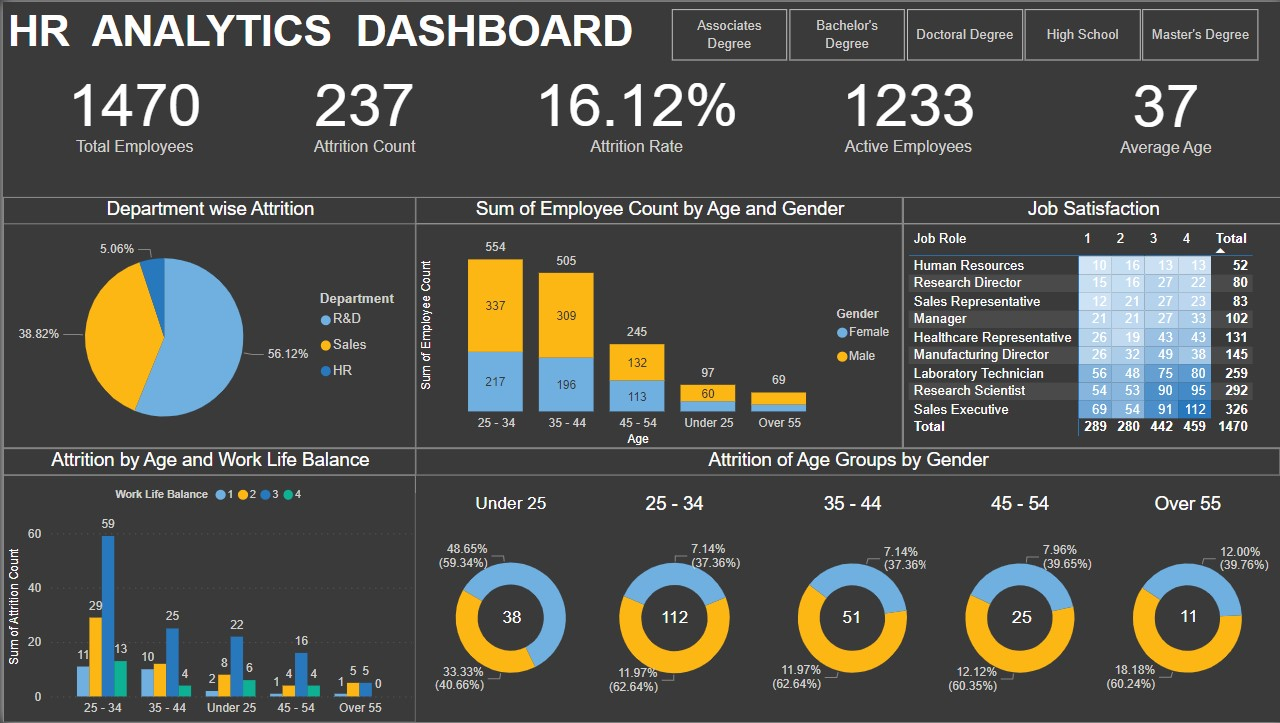

This screenshot's page, from the dashboard's own definition file:
{"tool":"powerbi","page":{"name":"Page 1","canvas":[1280,720],"ordinal":0},"visuals":[{"type":"card","fields":{"Values":["Sum(HR data.Employee Count)"]},"box":[41.2,53.5,181.1,105.7],"z":0},{"type":"card","fields":{"Values":["Avg(HR data.Age)"]},"box":[1073.1,54.9,181.1,105.7],"z":1000},{"type":"card","fields":{"Values":["Sum(HR data.Attrition Count)"]},"box":[271.7,53.5,181.1,105.7],"z":2000},{"type":"card","fields":{"Values":["HR data.Attrition Rate"]},"box":[520.1,54.9,227.8,104.3],"z":3000},{"type":"card","fields":{"Values":["HR data.Active Employees"]},"box":[815.1,54.9,181.1,104.3],"z":4000},{"type":"pieChart","title":"Department wise Attrition","fields":{"Y":["Sum(HR data.Attrition Count)"],"Category":["HR data.Department"]},"box":[0,194.9,413,251.1],"z":5000},{"type":"columnChart","fields":{"Category":["HR data.CF_age band"],"Y":["Sum(HR data.Employee Count)"],"Series":["HR data.Gender"]},"box":[413,194.9,487.1,251.1],"z":6000},{"type":"pivotTable","title":"Job Satisfaction","fields":{"Rows":["HR data.Job Role"],"Columns":["HR data.Job Satisfaction"],"Values":["Sum(HR data.Employee Count)"]},"box":[899.7,195.4,379.9,250.9],"z":7000},{"type":"clusteredColumnChart","title":"Attrition by Age and Work Life Balance","fields":{"Category":["HR data.CF_age band"],"Y":["Sum(HR data.Attrition Count)"],"Series":["HR data.Work Life Balance"]},"box":[0,446,413,274.4],"z":8000},{"type":"donutChart","title":"25 - 34","fields":{"Y":["HR data.Attrition Rate"],"Category":["HR data.Gender"]},"box":[576.3,491.3,190.7,229.2],"z":9000},{"type":"donutChart","title":"Under 25","fields":{"Y":["HR data.Attrition Rate"],"Category":["HR data.Gender"]},"box":[413,491.3,190.7,229.2],"z":10000},{"type":"donutChart","title":"35 - 44","fields":{"Y":["HR data.Attrition Rate"],"Category":["HR data.Gender"]},"box":[754.7,491.3,189.4,229.2],"z":11000},{"type":"donutChart","title":"45 - 54","fields":{"Y":["HR data.Attrition Rate"],"Category":["HR data.Gender"]},"box":[922.1,491.3,189.4,229.2],"z":12000},{"type":"donutChart","title":"Over 55","fields":{"Y":["HR data.Attrition Rate"],"Category":["HR data.Gender"]},"box":[1090.3,490.9,189.3,229.1],"z":13000},{"type":"card","fields":{"Values":["Sum(HR data.Attrition Count)"]},"box":[487.2,595.8,43.4,41],"z":14000},{"type":"card","fields":{"Values":["Sum(HR data.Attrition Count)"]},"box":[650.1,595.8,43.4,41],"z":15000},{"type":"card","fields":{"Values":["Sum(HR data.Attrition Count)"]},"box":[827.3,595.8,43.4,41],"z":16000},{"type":"card","fields":{"Values":["Sum(HR data.Attrition Count)"]},"box":[996.2,595.8,44.6,41],"z":17000},{"type":"card","fields":{"Values":["Sum(HR data.Attrition Count)"]},"box":[1163.6,595.5,43.9,41.2],"z":18000},{"type":"textbox","box":[413,446,864.5,27.4],"z":19000},{"type":"textbox","box":[0,0,656.1,65.1],"z":20000},{"type":"slicer","fields":{"Values":["HR data.Education"]},"box":[642.8,0,636.8,65.1],"z":20001}]}

Visuals, with their boxes in screenshot pixels (x1, y1, x2, y2), scaled from the page's 1280x720 canvas onto the 1280x723 screenshot:
card - Sum(HR data.Employee Count): select_region(41, 54, 222, 160)
card - Avg(HR data.Age): select_region(1073, 55, 1254, 161)
card - Sum(HR data.Attrition Count): select_region(272, 54, 453, 160)
card - HR data.Attrition Rate: select_region(520, 55, 748, 160)
card - HR data.Active Employees: select_region(815, 55, 996, 160)
"Department wise Attrition" pieChart: select_region(0, 196, 413, 448)
columnChart - HR data.CF_age band x Sum(HR data.Employee Count): select_region(413, 196, 900, 448)
"Job Satisfaction" pivotTable: select_region(900, 196, 1279, 448)
"Attrition by Age and Work Life Balance" clusteredColumnChart: select_region(0, 448, 413, 722)
"25 - 34" donutChart: select_region(576, 493, 767, 722)
"Under 25" donutChart: select_region(413, 493, 604, 722)
"35 - 44" donutChart: select_region(755, 493, 944, 722)
"45 - 54" donutChart: select_region(922, 493, 1112, 722)
"Over 55" donutChart: select_region(1090, 493, 1279, 722)
card - Sum(HR data.Attrition Count): select_region(487, 598, 531, 639)
card - Sum(HR data.Attrition Count): select_region(650, 598, 694, 639)
card - Sum(HR data.Attrition Count): select_region(827, 598, 871, 639)
card - Sum(HR data.Attrition Count): select_region(996, 598, 1041, 639)
card - Sum(HR data.Attrition Count): select_region(1164, 598, 1208, 639)
textbox: select_region(413, 448, 1278, 475)
textbox: select_region(0, 0, 656, 65)
slicer - HR data.Education: select_region(643, 0, 1279, 65)
